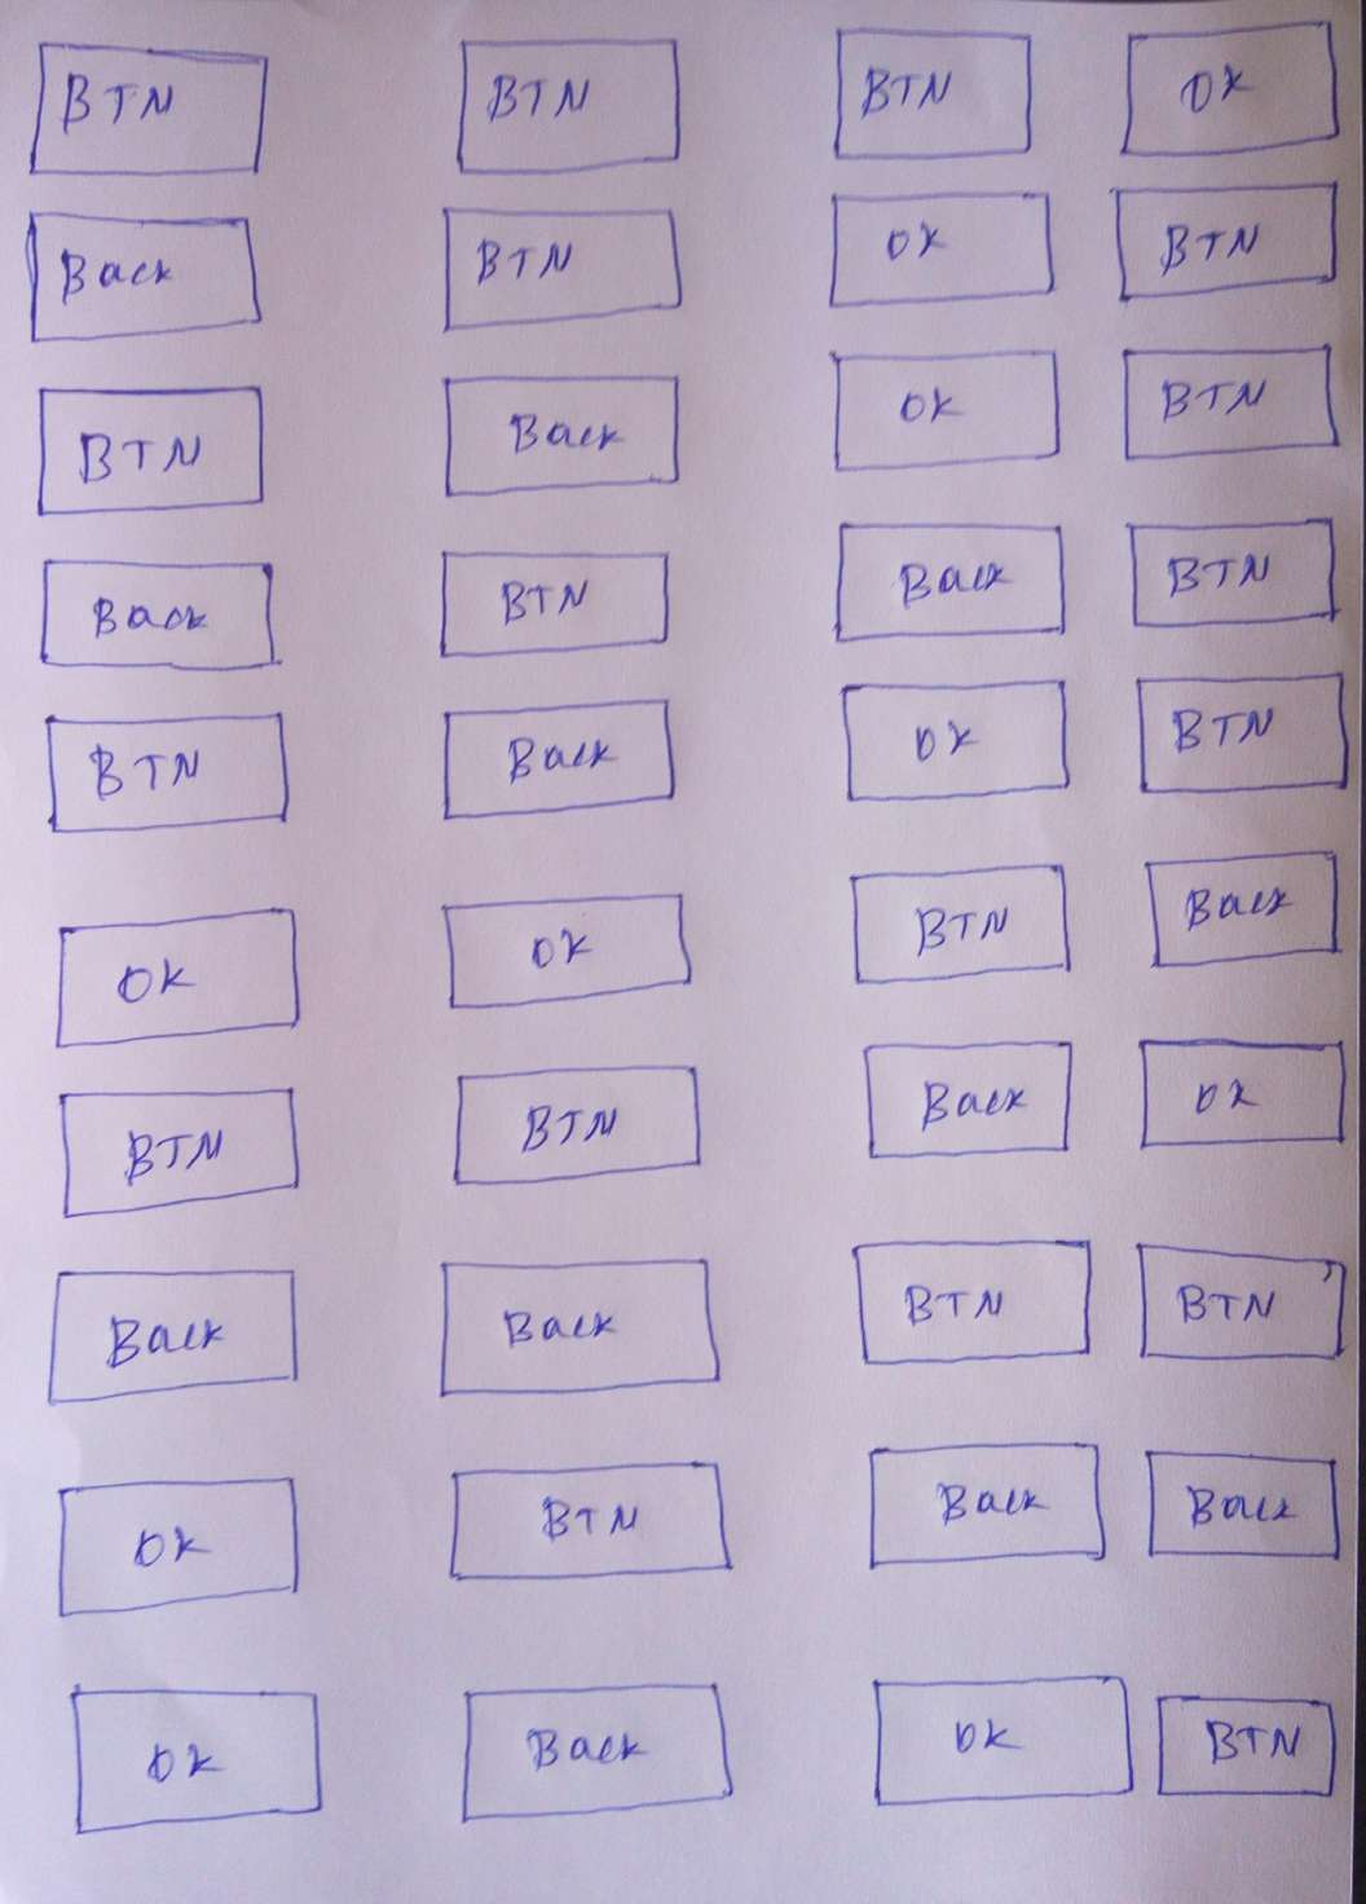Button: (436, 1257, 723, 1404), (457, 1681, 738, 1827), (69, 1681, 325, 1837), (52, 905, 302, 1054), (55, 1474, 303, 1622), (43, 1267, 302, 1407), (448, 1461, 738, 1585), (874, 1673, 1137, 1809), (25, 41, 273, 179), (24, 208, 268, 347), (55, 1087, 305, 1221), (438, 204, 686, 339), (454, 34, 686, 177), (866, 1440, 1109, 1576), (849, 1234, 1098, 1366), (449, 1060, 704, 1189), (34, 381, 268, 520), (1118, 19, 1342, 163), (441, 371, 683, 503), (44, 710, 293, 837), (441, 891, 696, 1013), (859, 1030, 1081, 1169), (439, 695, 677, 823), (840, 676, 1072, 807), (1129, 1024, 1362, 1155), (831, 520, 1067, 646), (829, 347, 1061, 475), (1129, 1237, 1353, 1369), (849, 860, 1073, 989), (37, 556, 279, 674), (829, 25, 1036, 163), (826, 188, 1057, 310), (1134, 668, 1353, 797), (436, 547, 674, 662), (1121, 341, 1341, 466), (1124, 513, 1342, 630), (1143, 846, 1344, 970), (1143, 1450, 1342, 1561), (1156, 1693, 1339, 1801)
